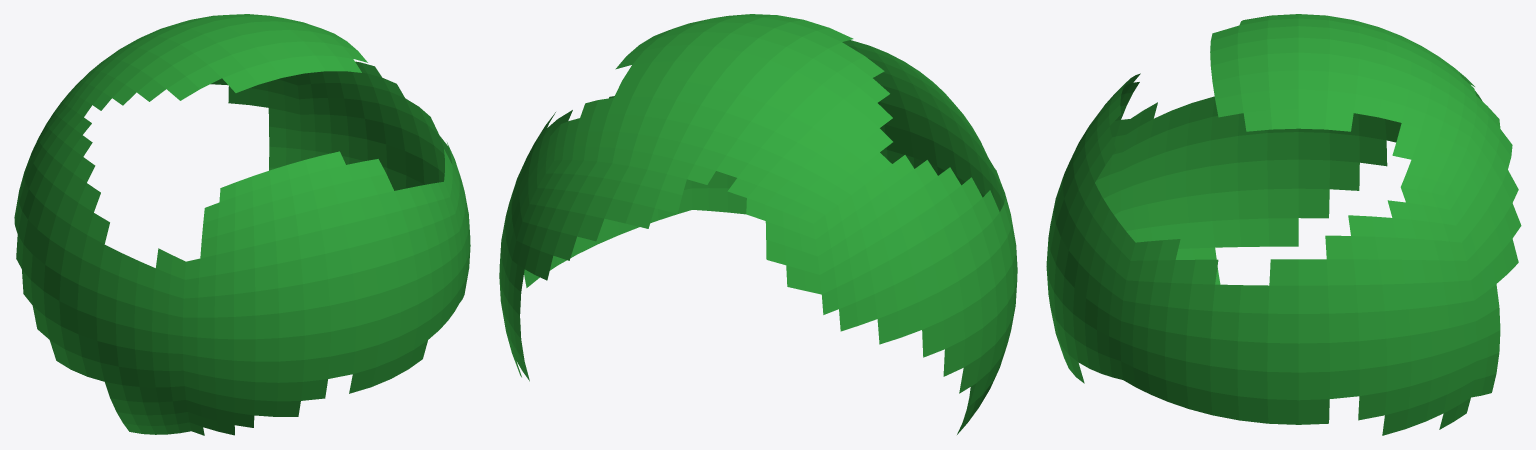
Rendered from NavMesh.fbx.
The picture shows the model from 3 angles, left to right: view 1: azimuth 30°, elevation 25°; view 2: azimuth 150°, elevation 25°; view 3: azimuth 270°, elevation 25°; orthographic projection. The views are drawn at different scales.
Visible parts, largest first — view 1: NavMesh; view 2: NavMesh; view 3: NavMesh.
Part boxes in pixels (left/top/right/bottom): NavMesh: left=14, top=14, right=470, bottom=435; NavMesh: left=499, top=14, right=1017, bottom=434; NavMesh: left=1046, top=14, right=1521, bottom=435.
Bounding box in the file's own units: 1062 × 868 × 1001.
